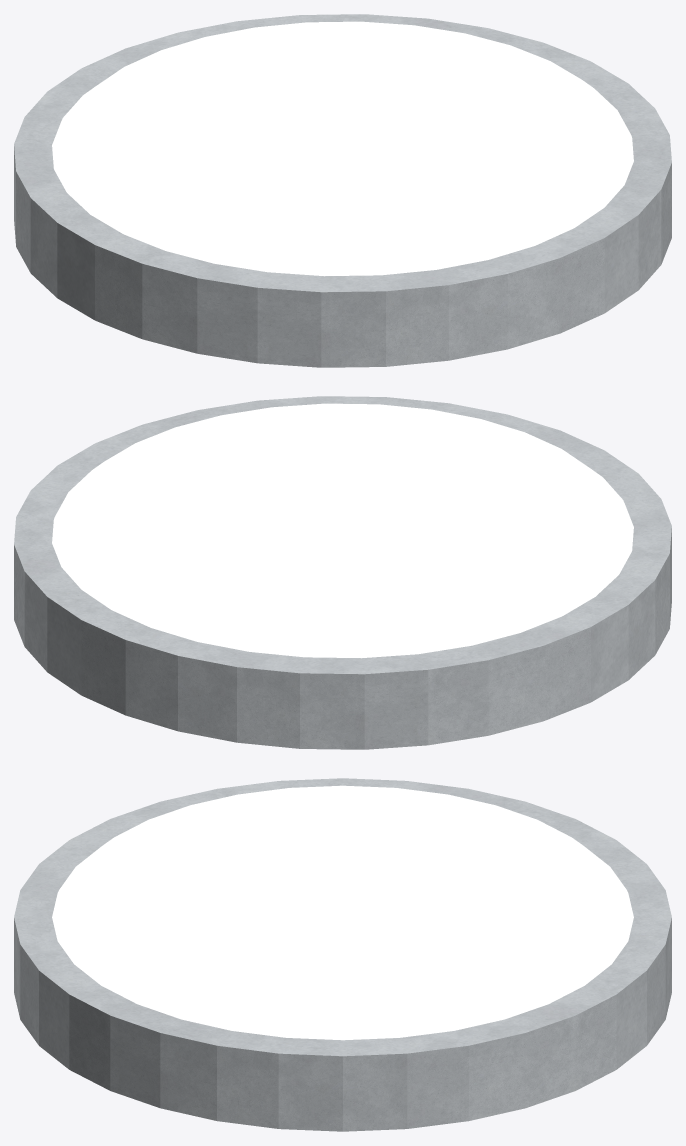
The model's file is light.glb.
The picture shows the model from 3 angles, top to bottom: view 1: azimuth 30°, elevation 25°; view 2: azimuth 150°, elevation 25°; view 3: azimuth 270°, elevation 25°; orthographic projection.
Parts seen in each view (by area): view 1: Circle; view 2: Circle; view 3: Circle.
Boxes of the visible parts, <box> form: Circle: <box>14,14,671,367</box>; Circle: <box>14,396,671,749</box>; Circle: <box>14,778,671,1131</box>.
Bounding box in the file's own units: 6.97 × 1.12 × 6.97.
Materials: 2 (1 with a texture image).
